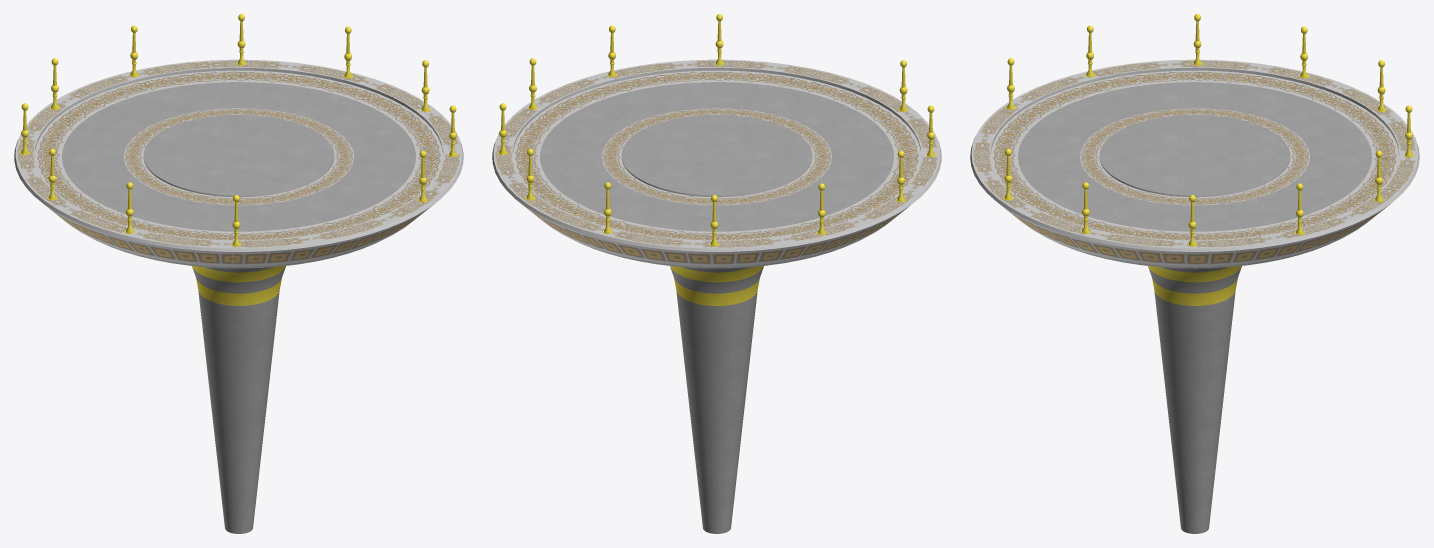
The model's file is SM_circular_module_01.glb.
3 views of the same model, side by side, from view 1: azimuth 30°, elevation 25°; view 2: azimuth 150°, elevation 25°; view 3: azimuth 270°, elevation 25° (orthographic).
Parts seen in each view (by area): view 1: SM_circular_module_01; view 2: SM_circular_module_01; view 3: SM_circular_module_01.
Boxes of the visible parts, x1,y1,x2,y2 form: SM_circular_module_01: (14,14,463,533); SM_circular_module_01: (492,14,941,533); SM_circular_module_01: (970,14,1419,533).
Size of the model in its own units: 18.39 by 19.1 by 18.39.
4 materials, 4 textured.
